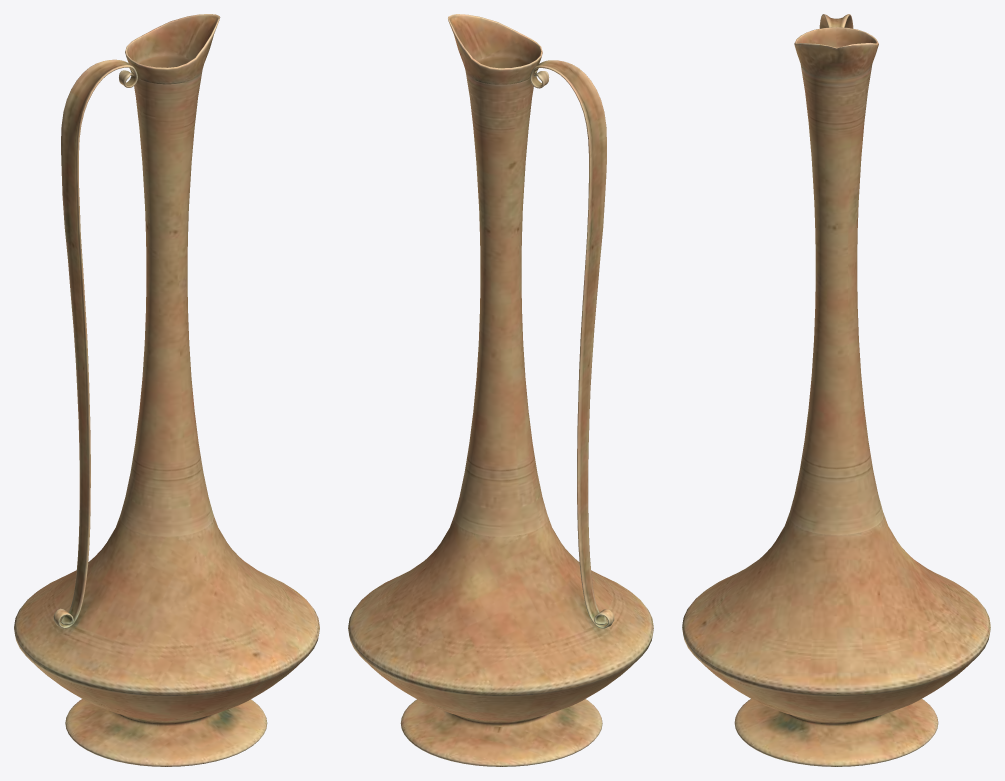
The picture shows the model from 3 angles, left to right: view 1: azimuth 30°, elevation 25°; view 2: azimuth 150°, elevation 25°; view 3: azimuth 270°, elevation 25°; orthographic projection.
Visible parts, largest first — view 1: brass_vase_02; view 2: brass_vase_02; view 3: brass_vase_02.
Part boxes in pixels (x1,y1,x2,y2): brass_vase_02: (14, 14, 319, 766); brass_vase_02: (348, 14, 653, 766); brass_vase_02: (682, 14, 990, 766).
Bounding box in the file's own units: 0.2102 × 0.5286 × 0.2102.
1 material, 1 textured.
